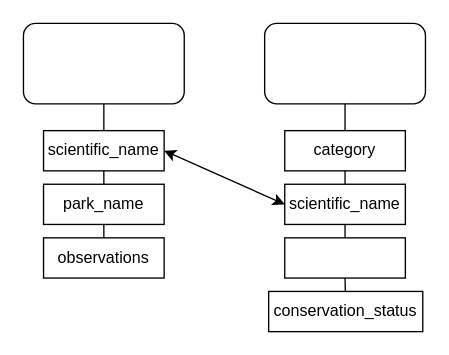
Image size: 449x355. Some labels were removed from this diagram. The shapes that lost their labels are listed below. From the top down, each one's centre as x and y in pixels, then its label:
the point at 103,63: observations.csv
the point at 344,63: species_info.csv
the point at 344,257: common_names
